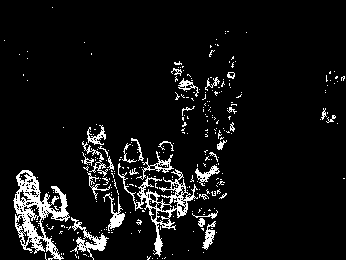person: (42, 184, 106, 257), (147, 142, 188, 255), (82, 122, 124, 228), (190, 151, 227, 248), (13, 169, 44, 253), (120, 139, 146, 213), (172, 61, 195, 131), (204, 77, 221, 136)
